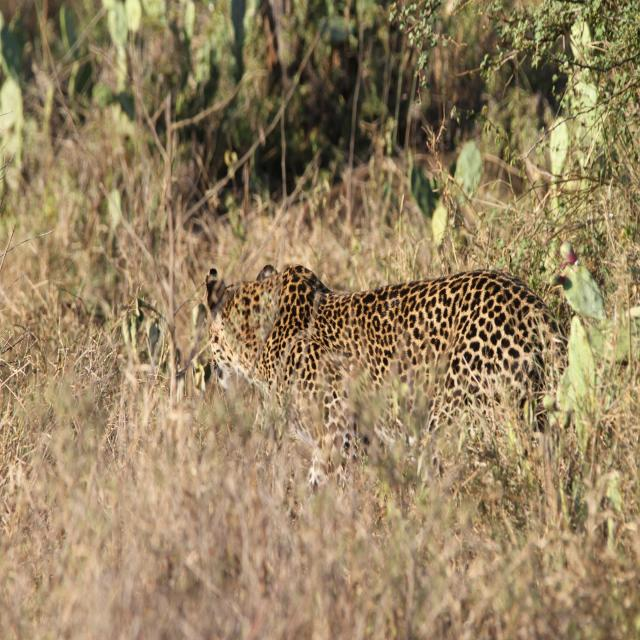Leopard: (195, 251, 577, 495)
